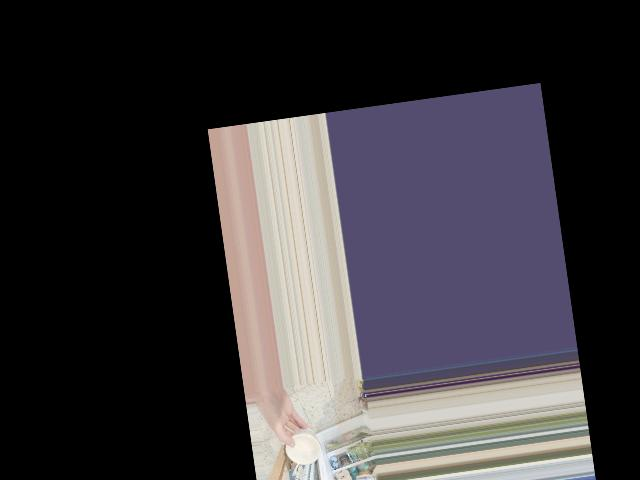cotage: (286, 428, 321, 465)
